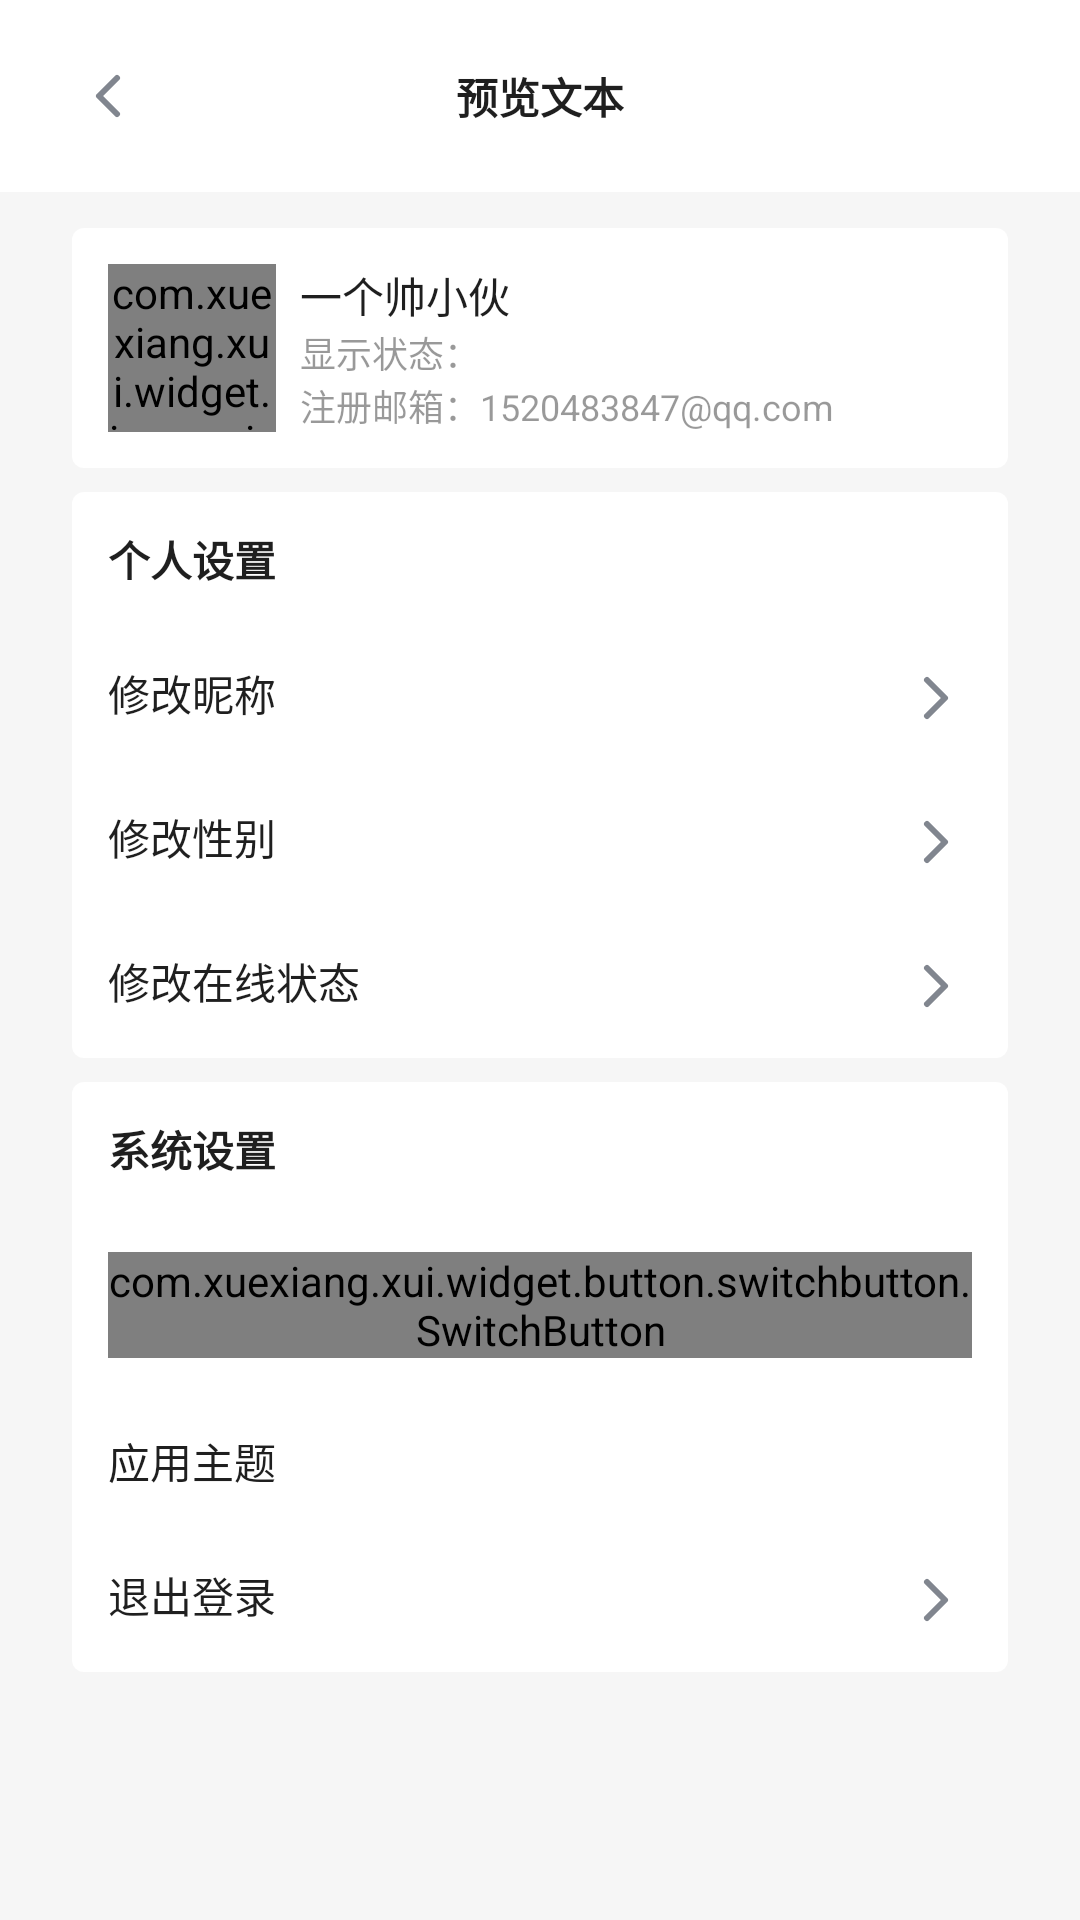

Icons on this 1080*1920 Android screen, each with its box as [left=x1, top=y1, right=x2, bottom=y2]:
chevron left: [left=96, top=75, right=120, bottom=117]
chevron right: [left=924, top=677, right=948, bottom=719], [left=924, top=821, right=948, bottom=863], [left=924, top=965, right=948, bottom=1007], [left=924, top=1579, right=948, bottom=1621]
